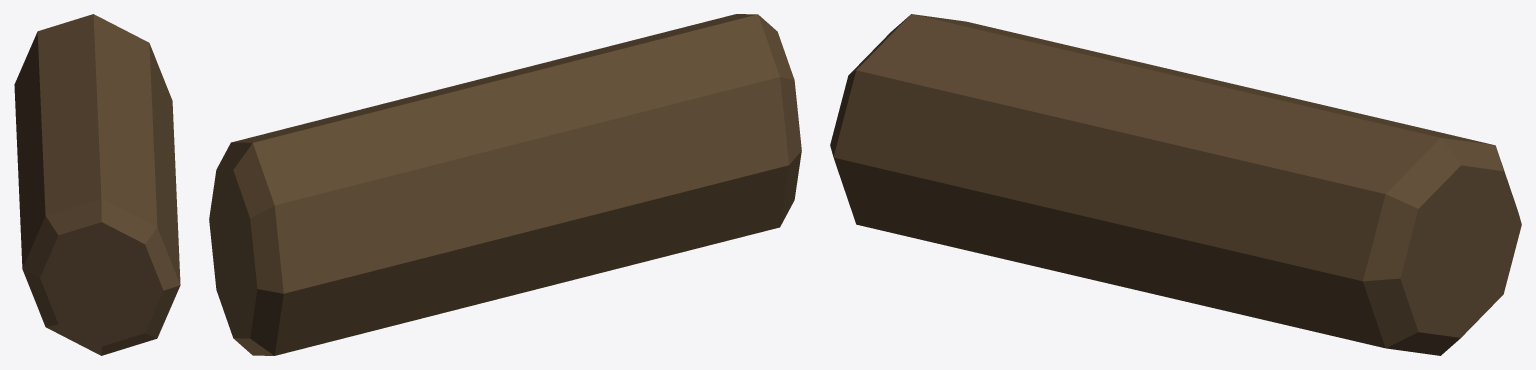
Rendered from Fireplace_Traditional_Log2.FBX.
3 views of the same model, side by side, from view 1: azimuth 30°, elevation 25°; view 2: azimuth 150°, elevation 25°; view 3: azimuth 270°, elevation 25° (orthographic). The views are drawn at different scales.
Visible parts, largest first — view 1: Fireplpace_Traditional_Log2; view 2: Fireplpace_Traditional_Log2; view 3: Fireplpace_Traditional_Log2.
Part boxes in pixels (x1,y1,x2,y2): Fireplpace_Traditional_Log2: (14, 14, 180, 355); Fireplpace_Traditional_Log2: (209, 14, 801, 355); Fireplpace_Traditional_Log2: (830, 14, 1521, 355).
Bounding box in the file's own units: 13.58 × 7.17 × 20.6.
1 material, 1 textured.
